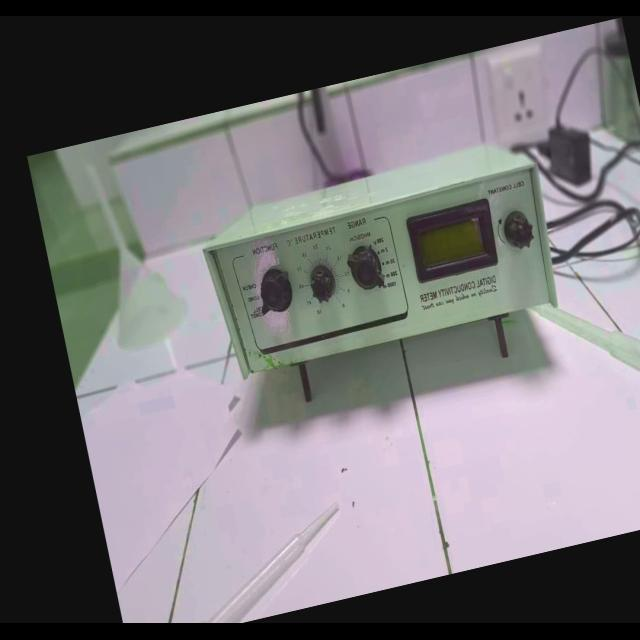Conductivity Meter: (190, 144, 570, 388)
